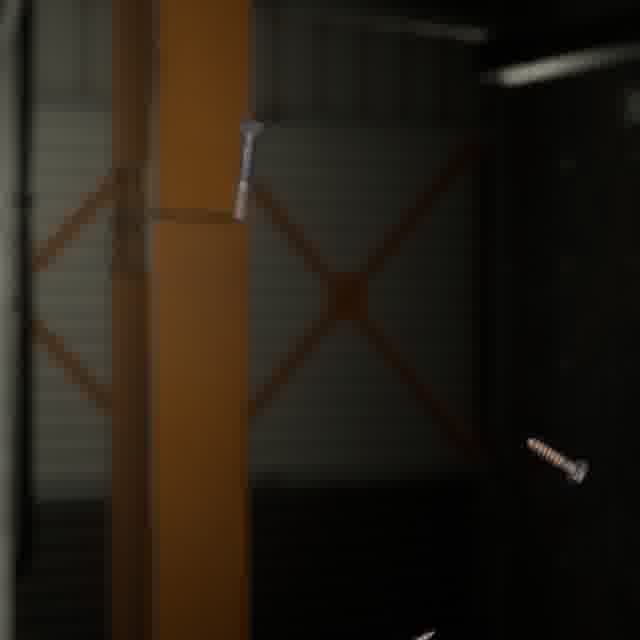bolt: (228, 115, 267, 223), (522, 432, 592, 489)
